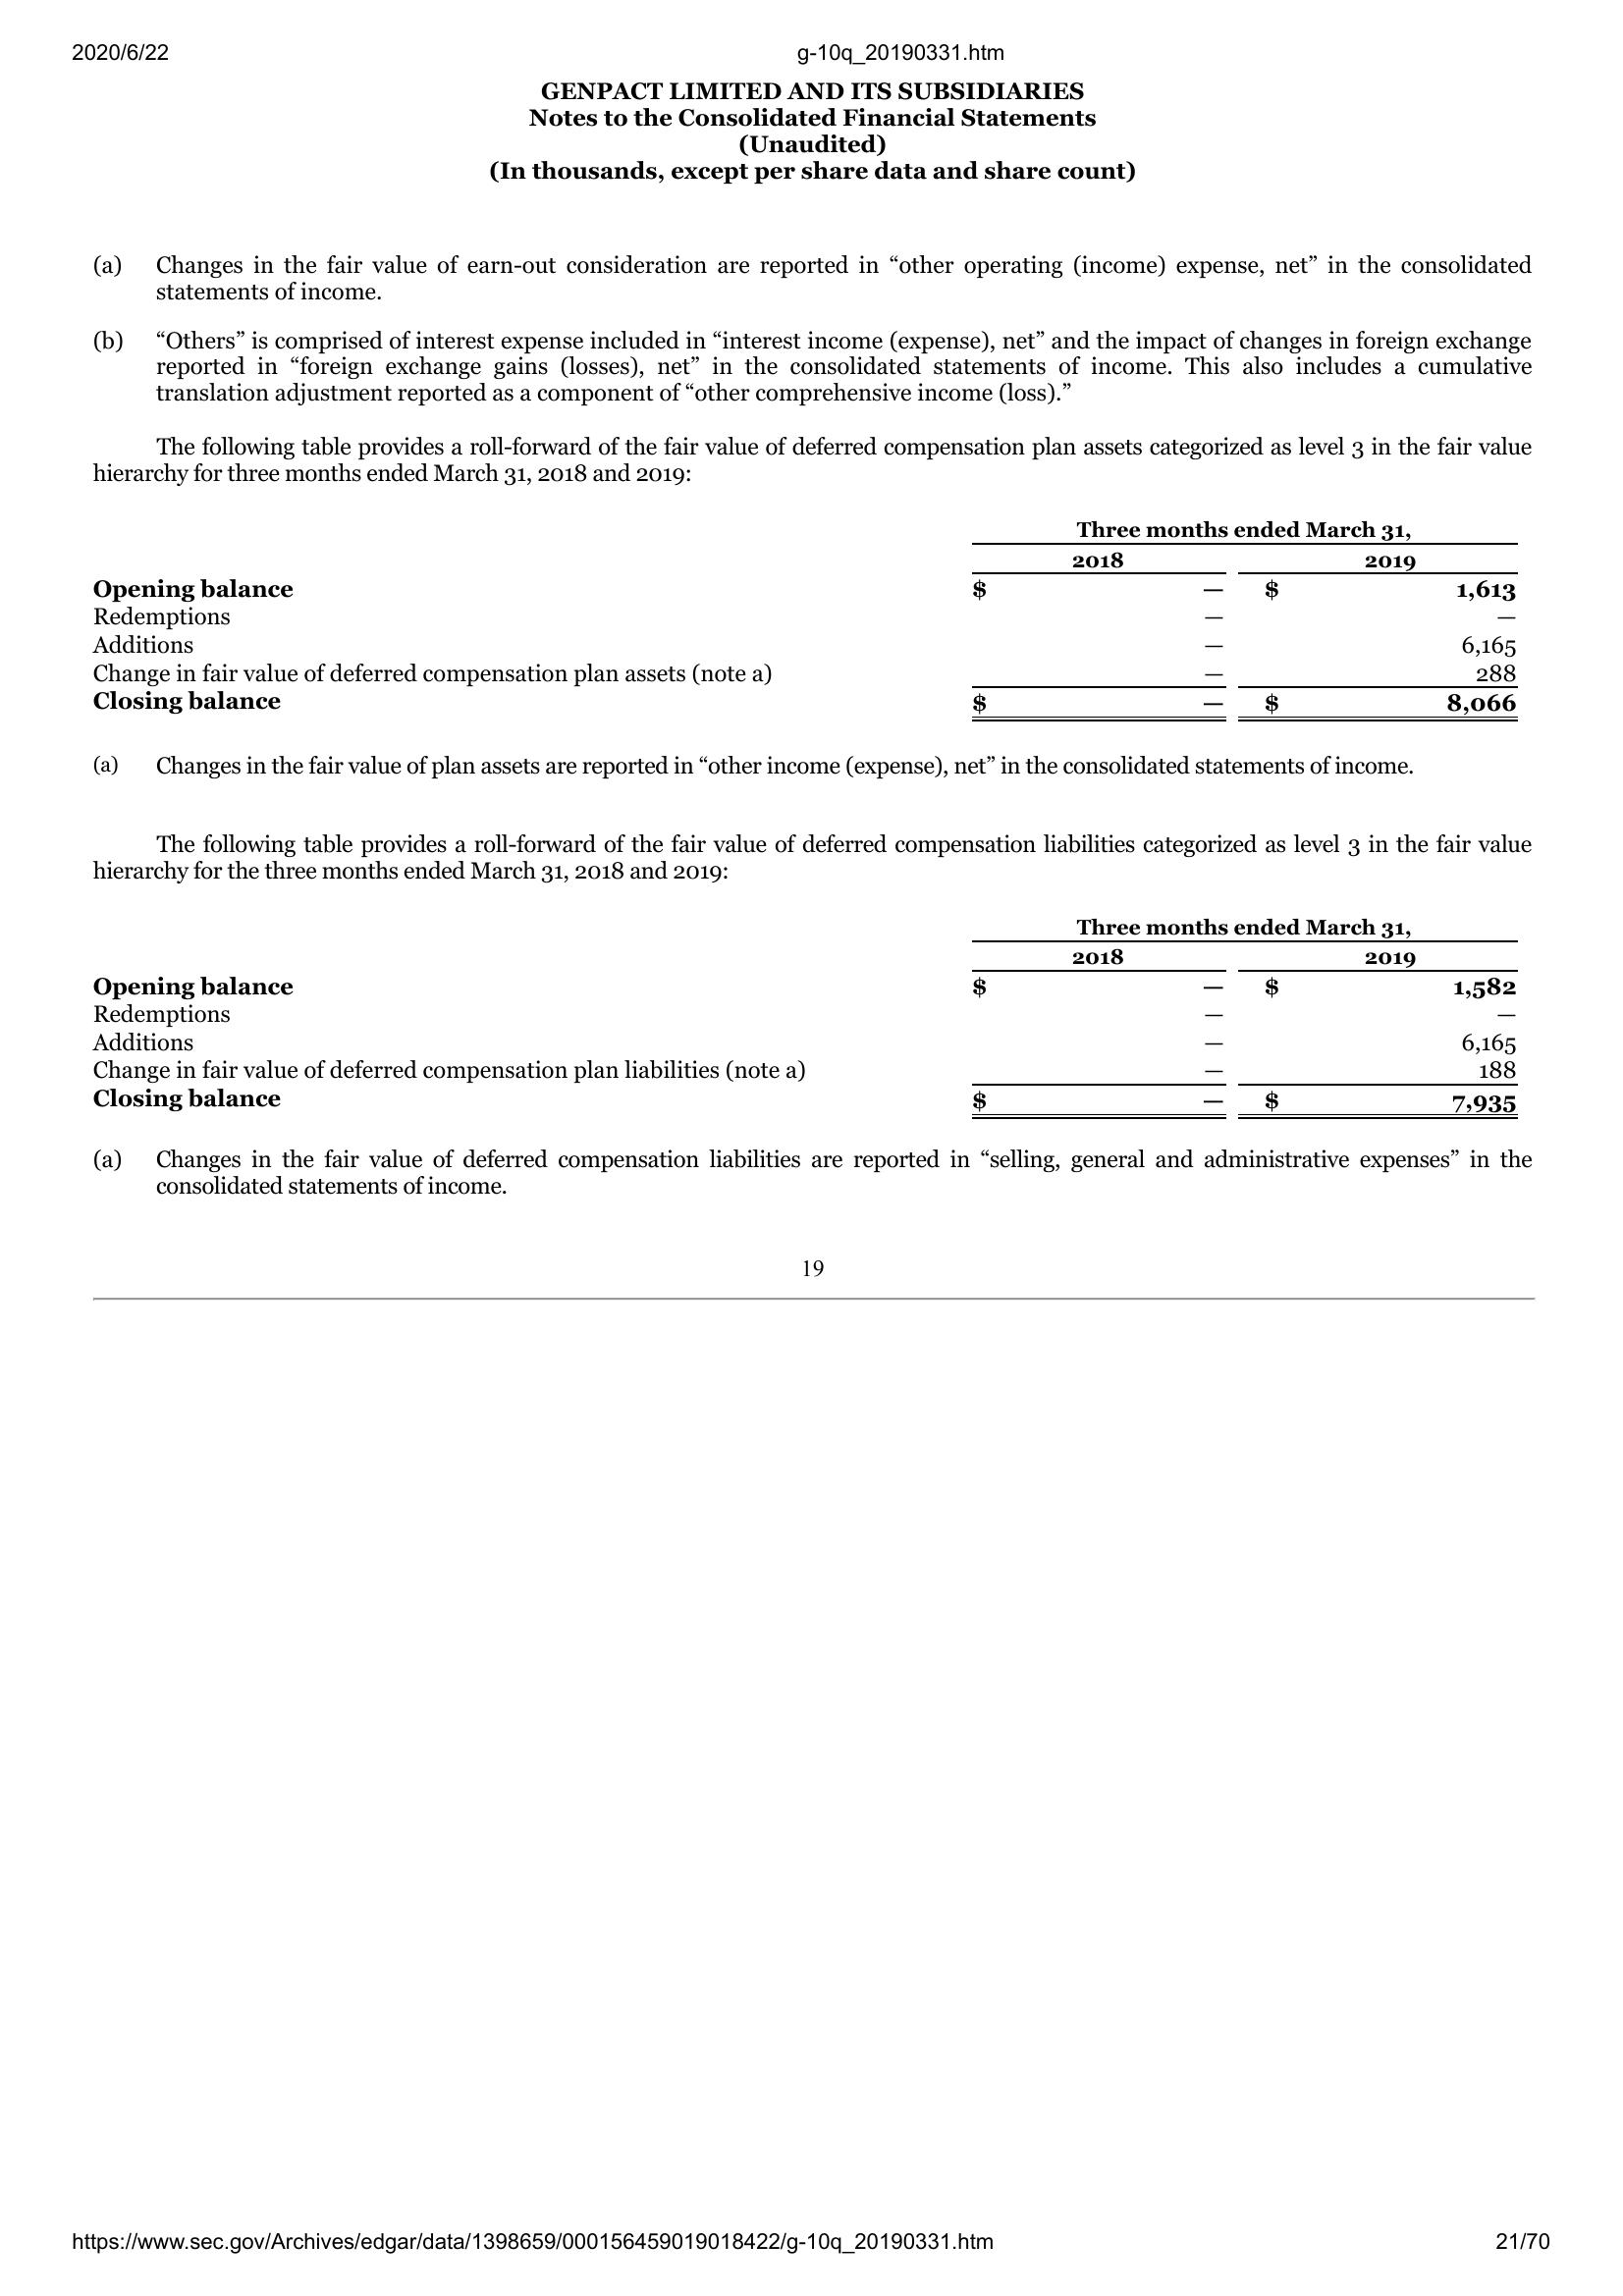table: (83, 906, 1528, 1129), (84, 513, 1528, 728)
